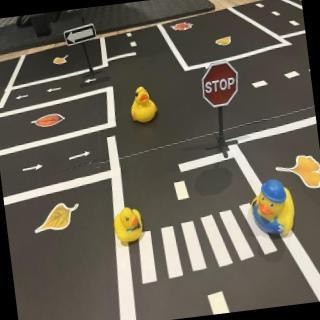duck_regular: (111, 204, 146, 248)
duck_specialty: (246, 173, 302, 242), (127, 85, 162, 128)
road_crosswalk: (132, 199, 283, 287)
road_oneway: (67, 150, 93, 163), (21, 163, 45, 176), (14, 93, 33, 103), (47, 87, 65, 95), (85, 77, 100, 86)
sign_oneway_left: (64, 25, 100, 46)
sign_stop: (201, 61, 242, 110)
